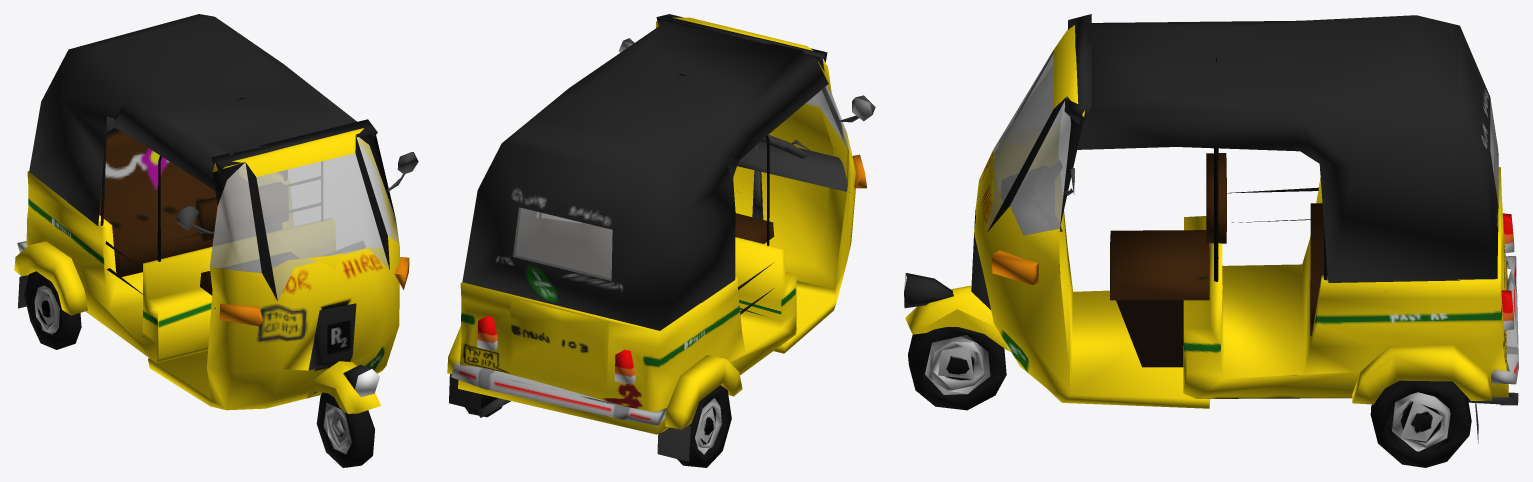
The model's file is AutoOp.fbx.
3 views of the same model, side by side, from view 1: azimuth 30°, elevation 25°; view 2: azimuth 150°, elevation 25°; view 3: azimuth 270°, elevation 25° (orthographic). The views are drawn at different scales.
Visible parts, largest first — view 1: persp5; view 2: persp5; view 3: persp5.
Part boxes in pixels (<box>): persp5: <box>14,14,418,467</box>; persp5: <box>447,14,875,467</box>; persp5: <box>904,14,1518,467</box>.
Bounding box in the file's own units: 151 × 174 × 272.
